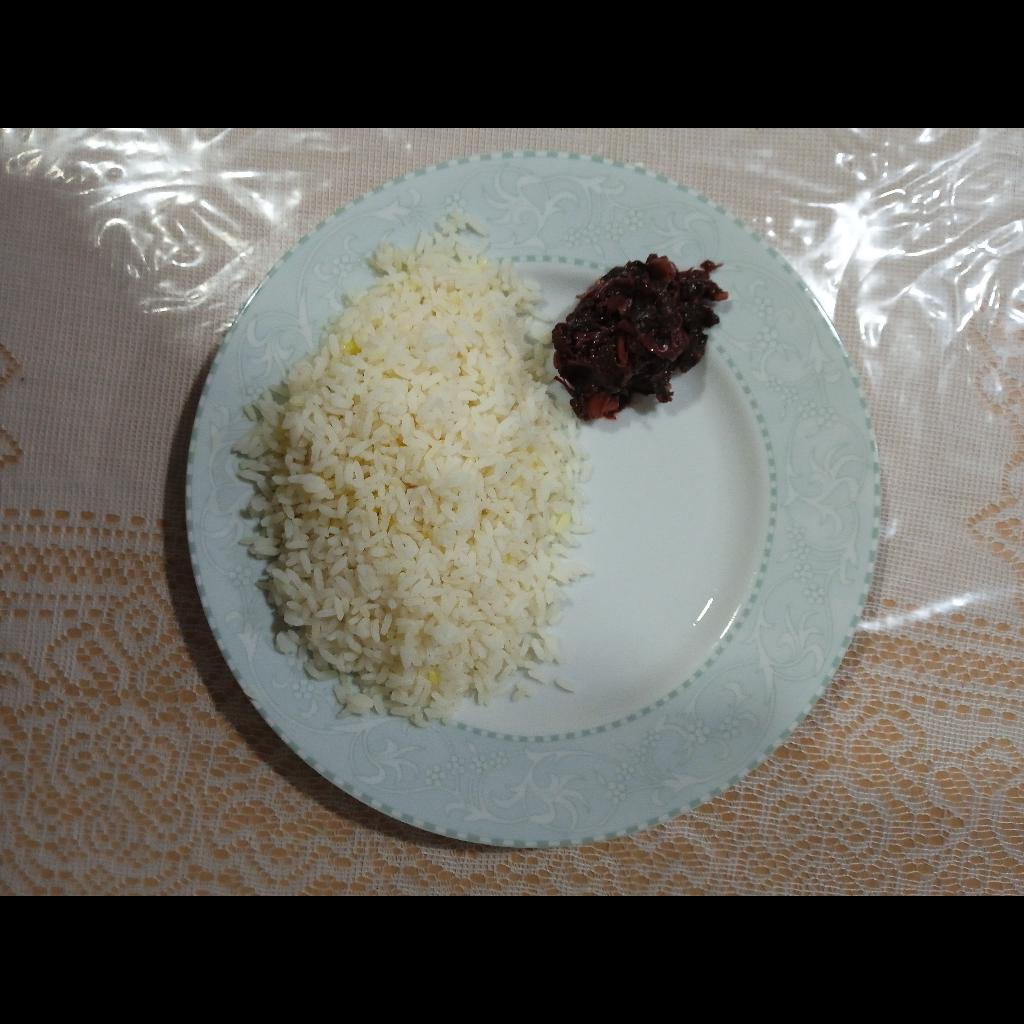rice: (255, 241, 574, 715)
shak: (549, 254, 727, 420)
